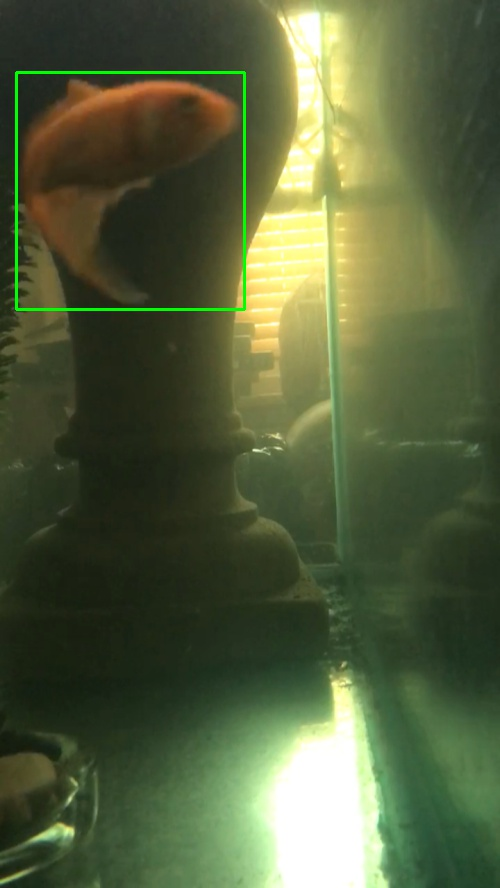goldfish: (16, 72, 246, 309)
